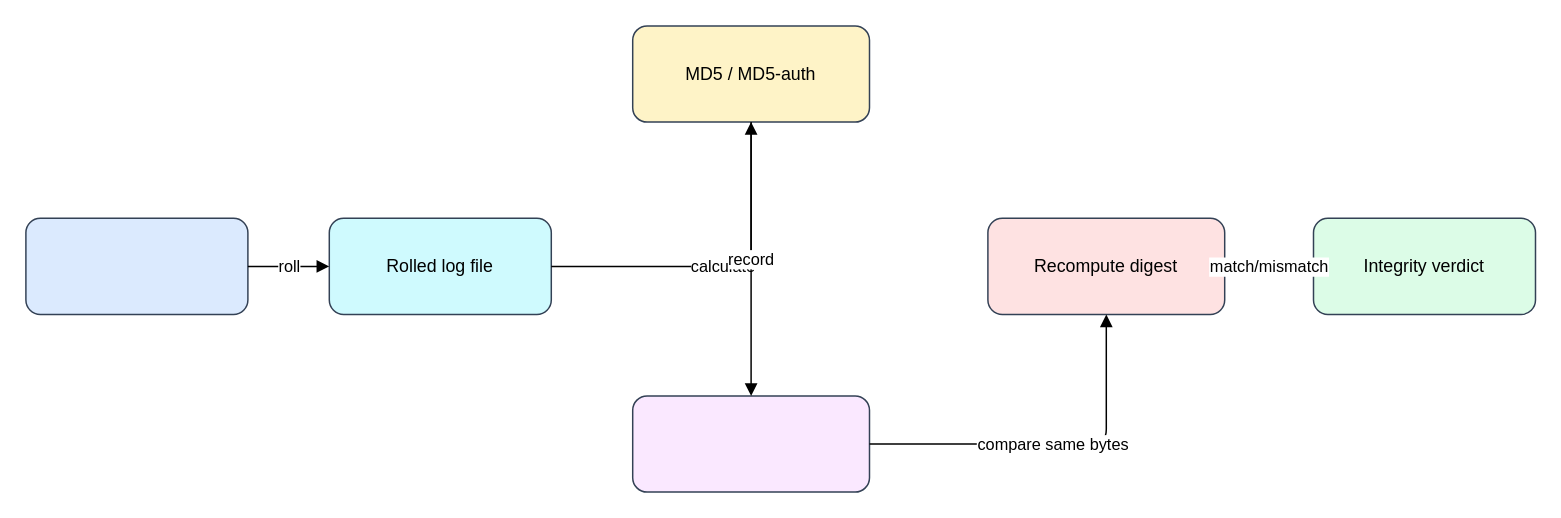
Some shapes in this 1561 by 518 pixel diagram are drawn without their labels. The box of each missing label's shape, as (x1, y1, x2, y2) in pixels:
Incoming logs: (24, 217, 248, 314)
Recorded digest: (631, 394, 870, 492)
